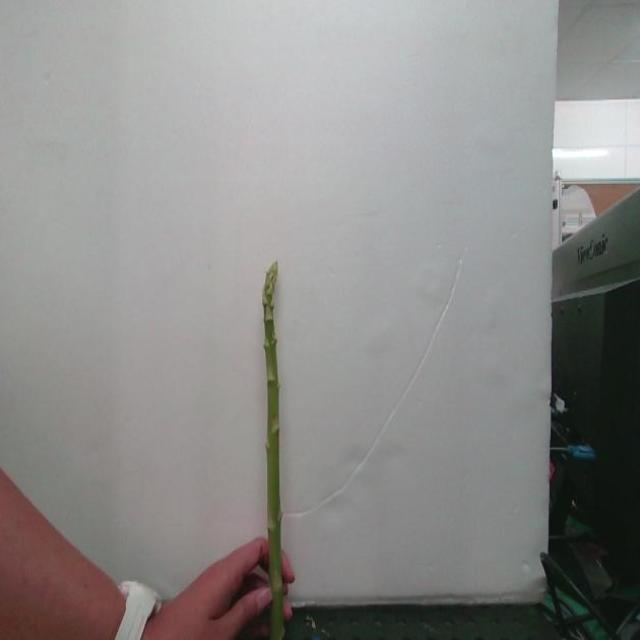aspargus: (262, 263, 291, 640)
